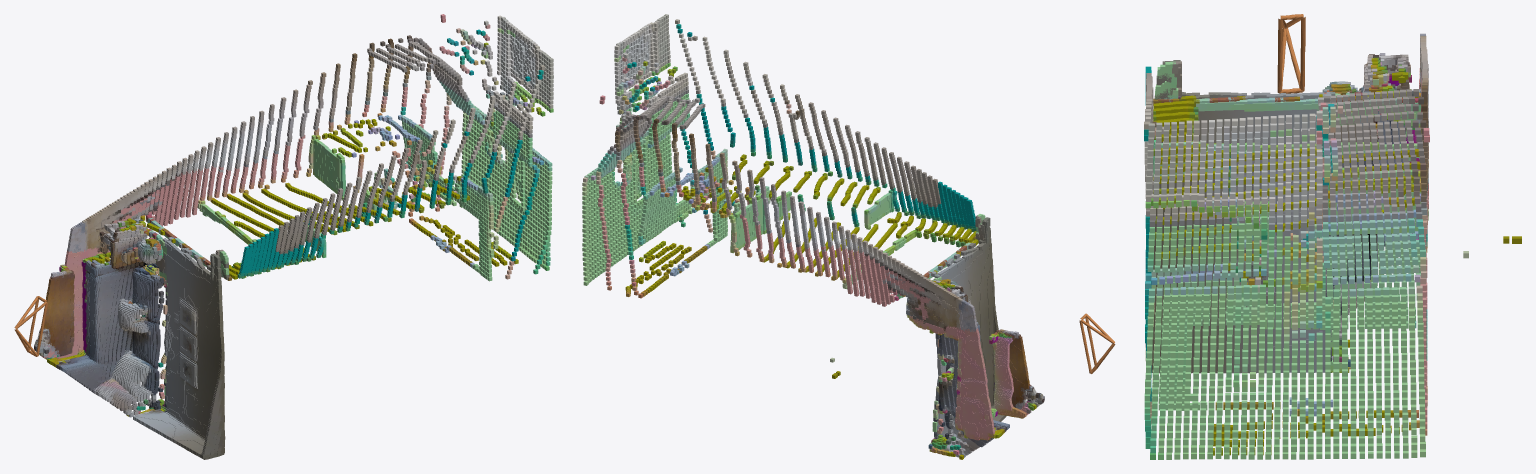
The picture shows the model from 3 angles, left to right: view 1: azimuth 30°, elevation 25°; view 2: azimuth 150°, elevation 25°; view 3: azimuth 270°, elevation 25°; orthographic projection. The views are drawn at different scales.
Size of the model in its own units: 8.02 by 4.94 by 3.28.
